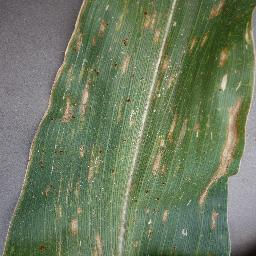Gray_Leaf_Spot: (33, 76, 255, 163), (53, 0, 256, 77), (196, 163, 241, 237), (0, 184, 29, 256), (60, 177, 79, 204), (21, 143, 33, 184), (69, 205, 84, 237), (80, 162, 102, 183), (90, 229, 106, 256), (144, 163, 172, 178), (124, 233, 142, 256), (143, 207, 154, 242), (111, 163, 125, 190), (158, 205, 171, 225), (53, 204, 64, 225), (35, 241, 51, 255), (42, 181, 53, 197), (56, 238, 65, 256), (180, 228, 190, 239)
